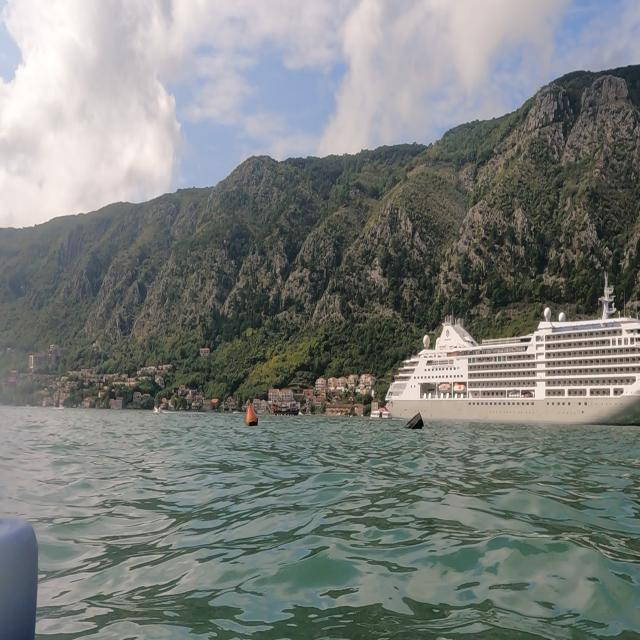boat: (382, 269, 638, 429)
buoy: (400, 408, 429, 438), (243, 394, 260, 434)
